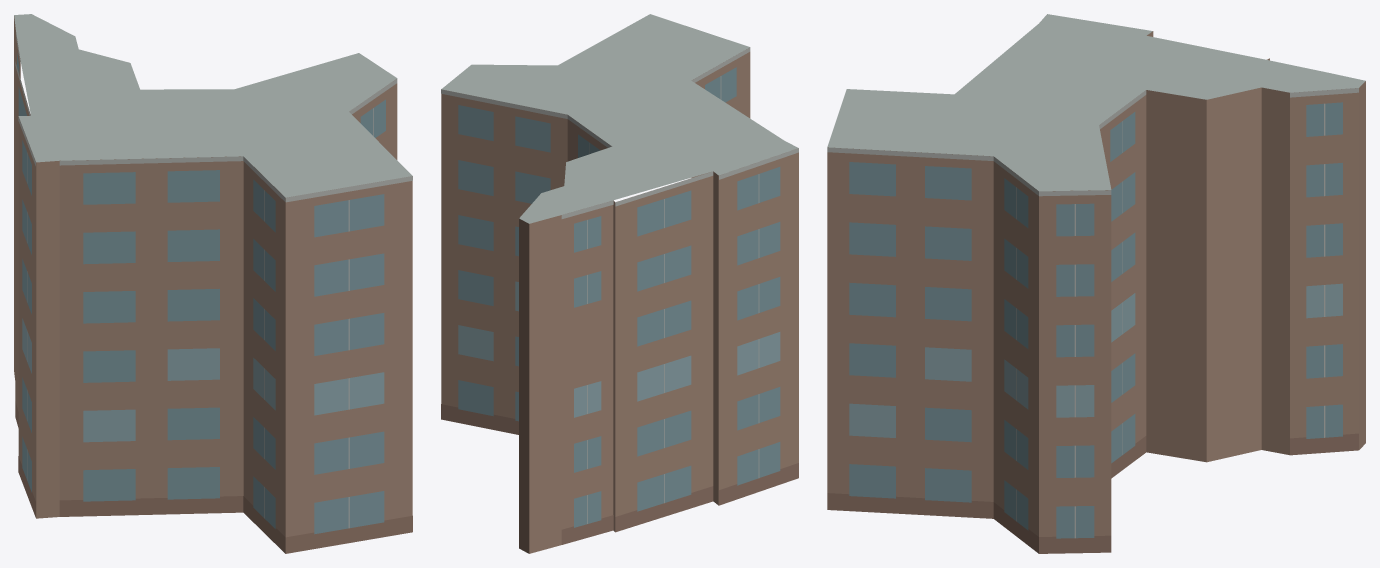
Rendered from survey-upis-32949380.glb.
3 views of the same model, side by side, from view 1: azimuth 30°, elevation 25°; view 2: azimuth 150°, elevation 25°; view 3: azimuth 270°, elevation 25° (orthographic). The views are drawn at different scales.
Visible parts, largest first — view 1: survey-upis-32949380.tmp; view 2: survey-upis-32949380.tmp; view 3: survey-upis-32949380.tmp.
Boxes of the visible parts, <box> form: survey-upis-32949380.tmp: <box>14,14,412,553</box>; survey-upis-32949380.tmp: <box>441,14,798,553</box>; survey-upis-32949380.tmp: <box>827,14,1365,553</box>.
Bounding box in the file's own units: 19.21 × 18.3 × 24.65.
